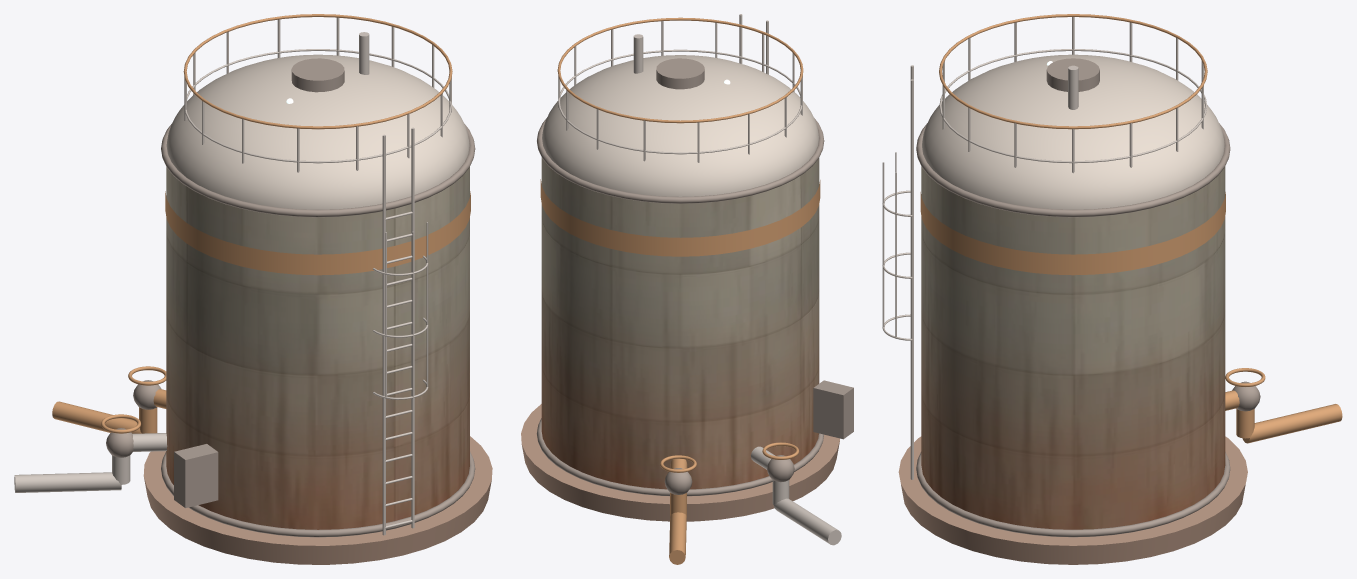
Rendered from E10_standing_tank_6m.glb.
The picture shows the model from 3 angles, left to right: view 1: azimuth 30°, elevation 25°; view 2: azimuth 150°, elevation 25°; view 3: azimuth 270°, elevation 25°; orthographic projection. The views are drawn at different scales.
Visible parts, largest first — view 1: tank_shell, tank_roof, ladder_rail, foundation_ring, stiffener_ring; view 2: tank_shell, tank_roof, stiffener_ring, foundation_ring, ladder_rail; view 3: tank_shell, tank_roof, foundation_ring, stiffener_ring, ladder_rail.
Boxes of the visible parts, <box> form: tank_shell: <box>166,167,469,529</box>; tank_roof: <box>52,14,470,433</box>; ladder_rail: <box>14,17,451,535</box>; foundation_ring: <box>143,436,492,564</box>; stiffener_ring: <box>106,58,475,537</box>; tank_shell: <box>541,157,819,489</box>; tank_roof: <box>540,17,820,564</box>; stiffener_ring: <box>536,58,853,496</box>; foundation_ring: <box>521,404,839,521</box>; ladder_rail: <box>558,14,841,545</box>; tank_shell: <box>921,166,1225,529</box>; tank_roof: <box>920,14,1342,443</box>; foundation_ring: <box>898,436,1247,564</box>; stiffener_ring: <box>916,58,1260,537</box>; ladder_rail: <box>882,17,1207,479</box>.
Bounding box in the file's own units: 5.94 × 6.5 × 6.06.
Materials: 6 (1 with a texture image).
